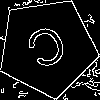C: (22, 22, 75, 80)
